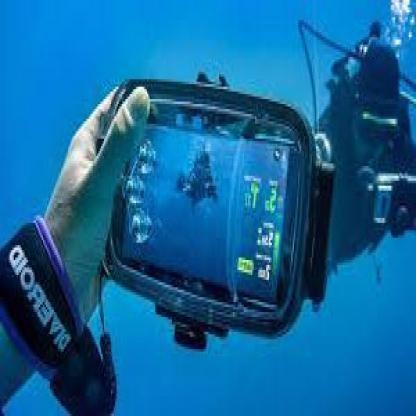electronics: (108, 79, 327, 346)
